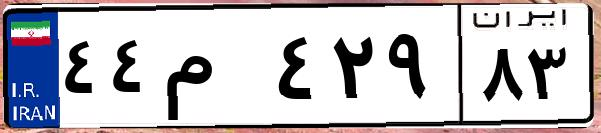2: (330, 28, 385, 110)
3: (525, 38, 570, 115)
4: (270, 28, 330, 110), (57, 26, 110, 100), (110, 28, 158, 98)
8: (475, 38, 525, 113)
9: (385, 28, 445, 110)
م: (158, 20, 270, 120)
